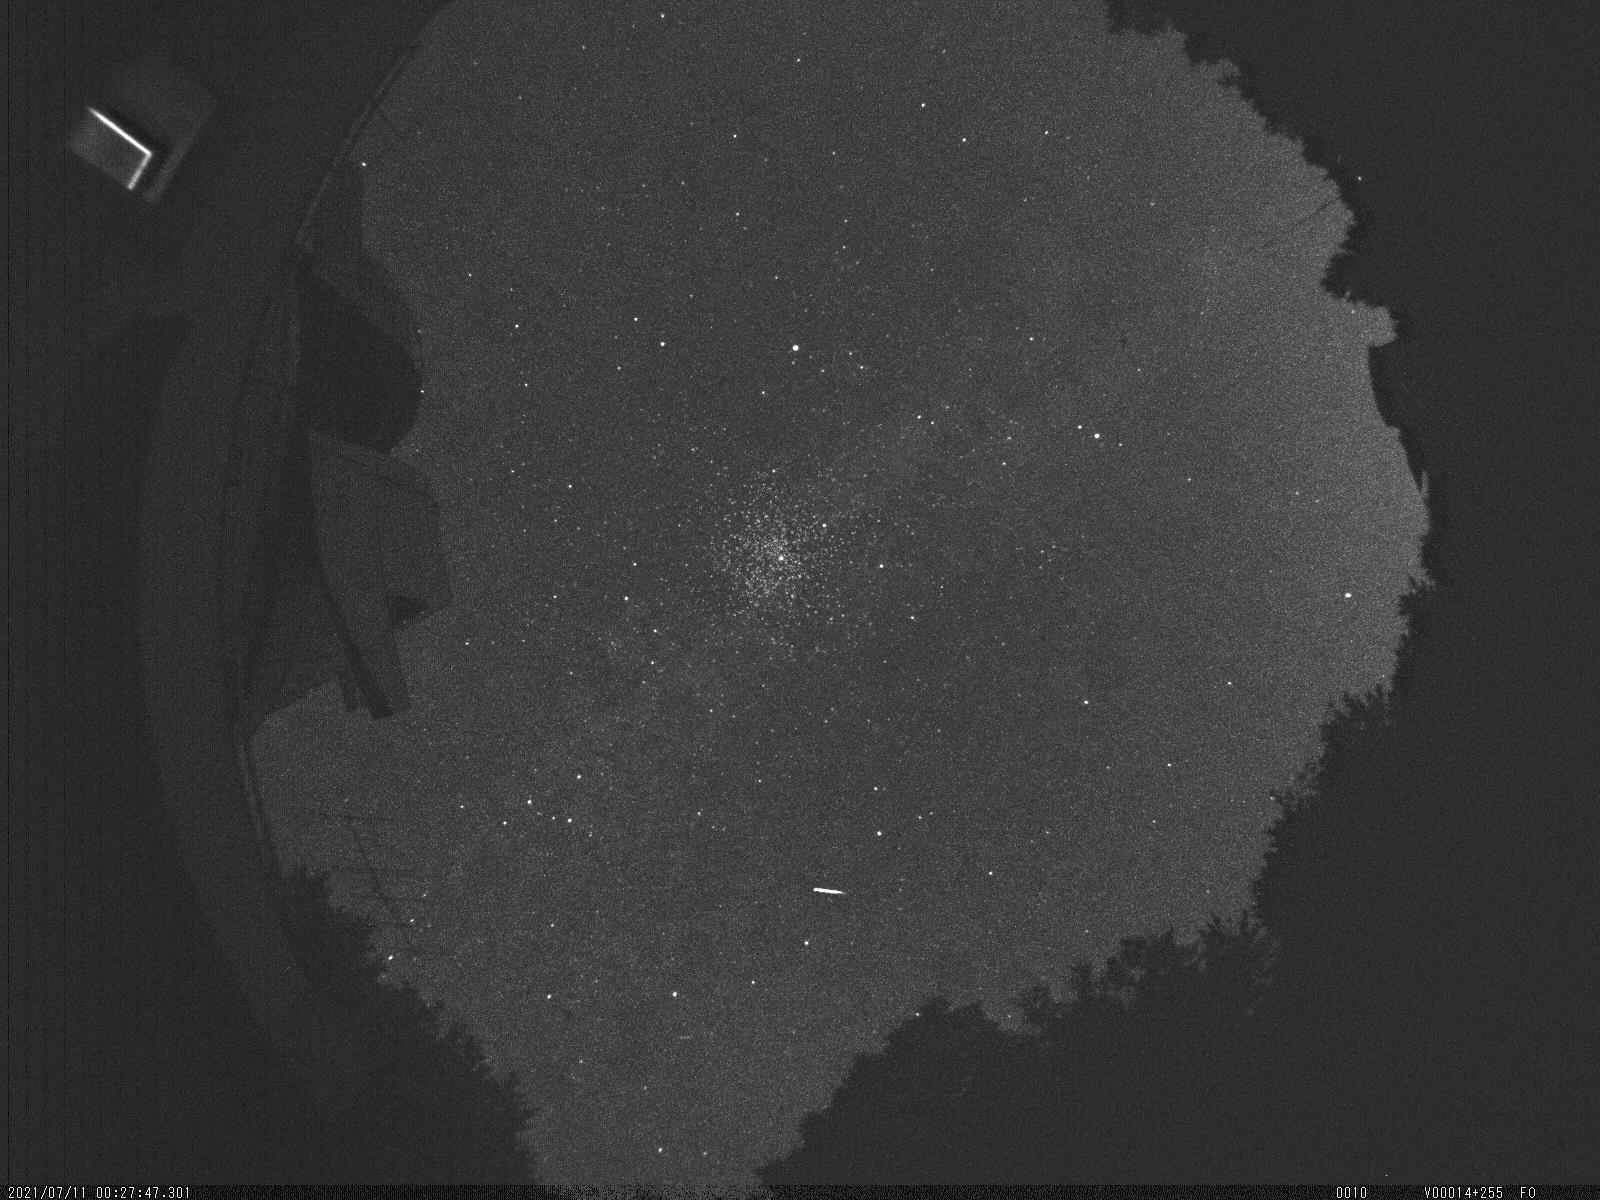Meteor: (797, 875, 853, 908)
